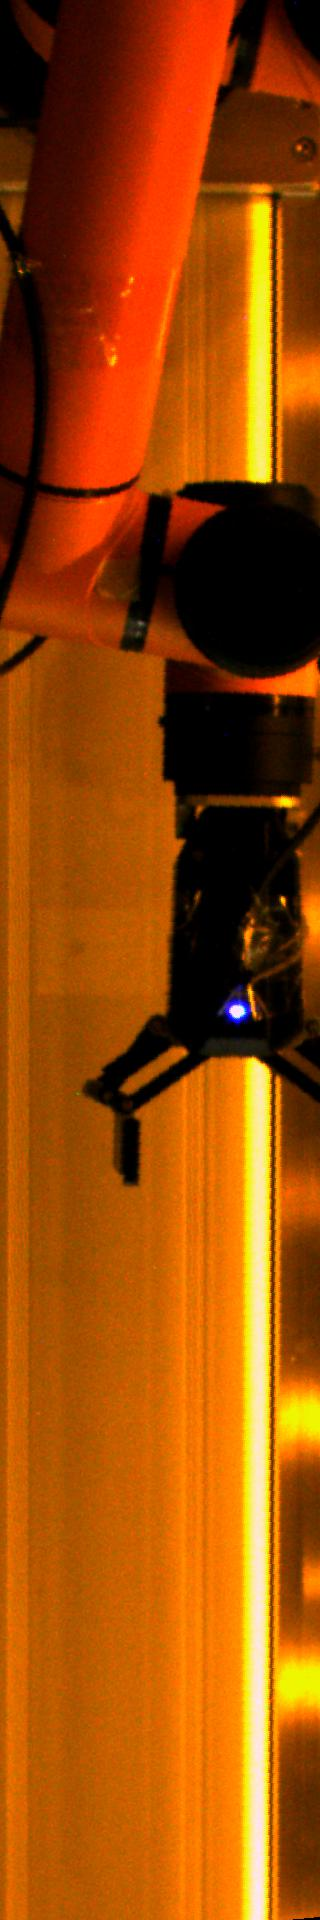keyPoint_1: (222, 994, 253, 1024)
